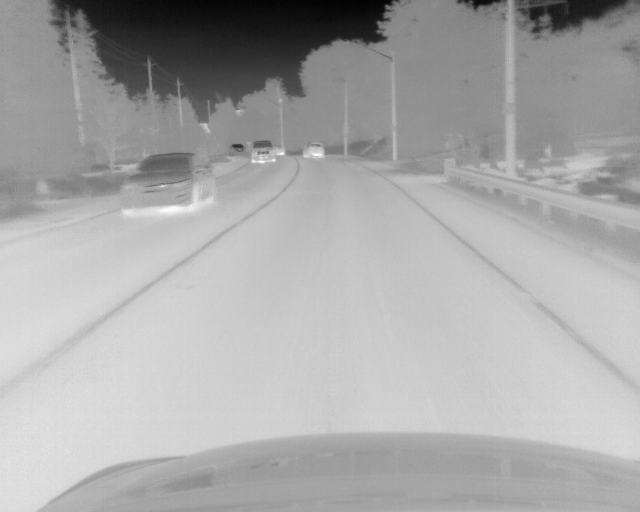car: (118, 152, 218, 215), (250, 139, 275, 164), (301, 141, 325, 160), (229, 142, 244, 156), (275, 145, 284, 156)
